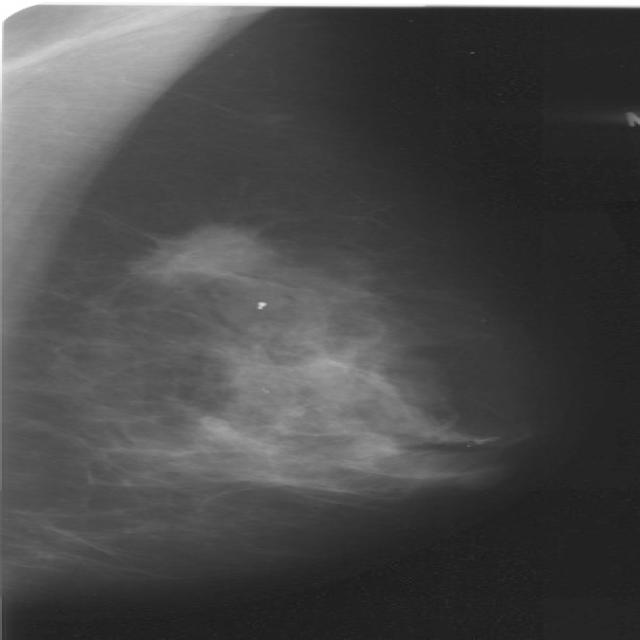tumour: (125, 223, 269, 283)
